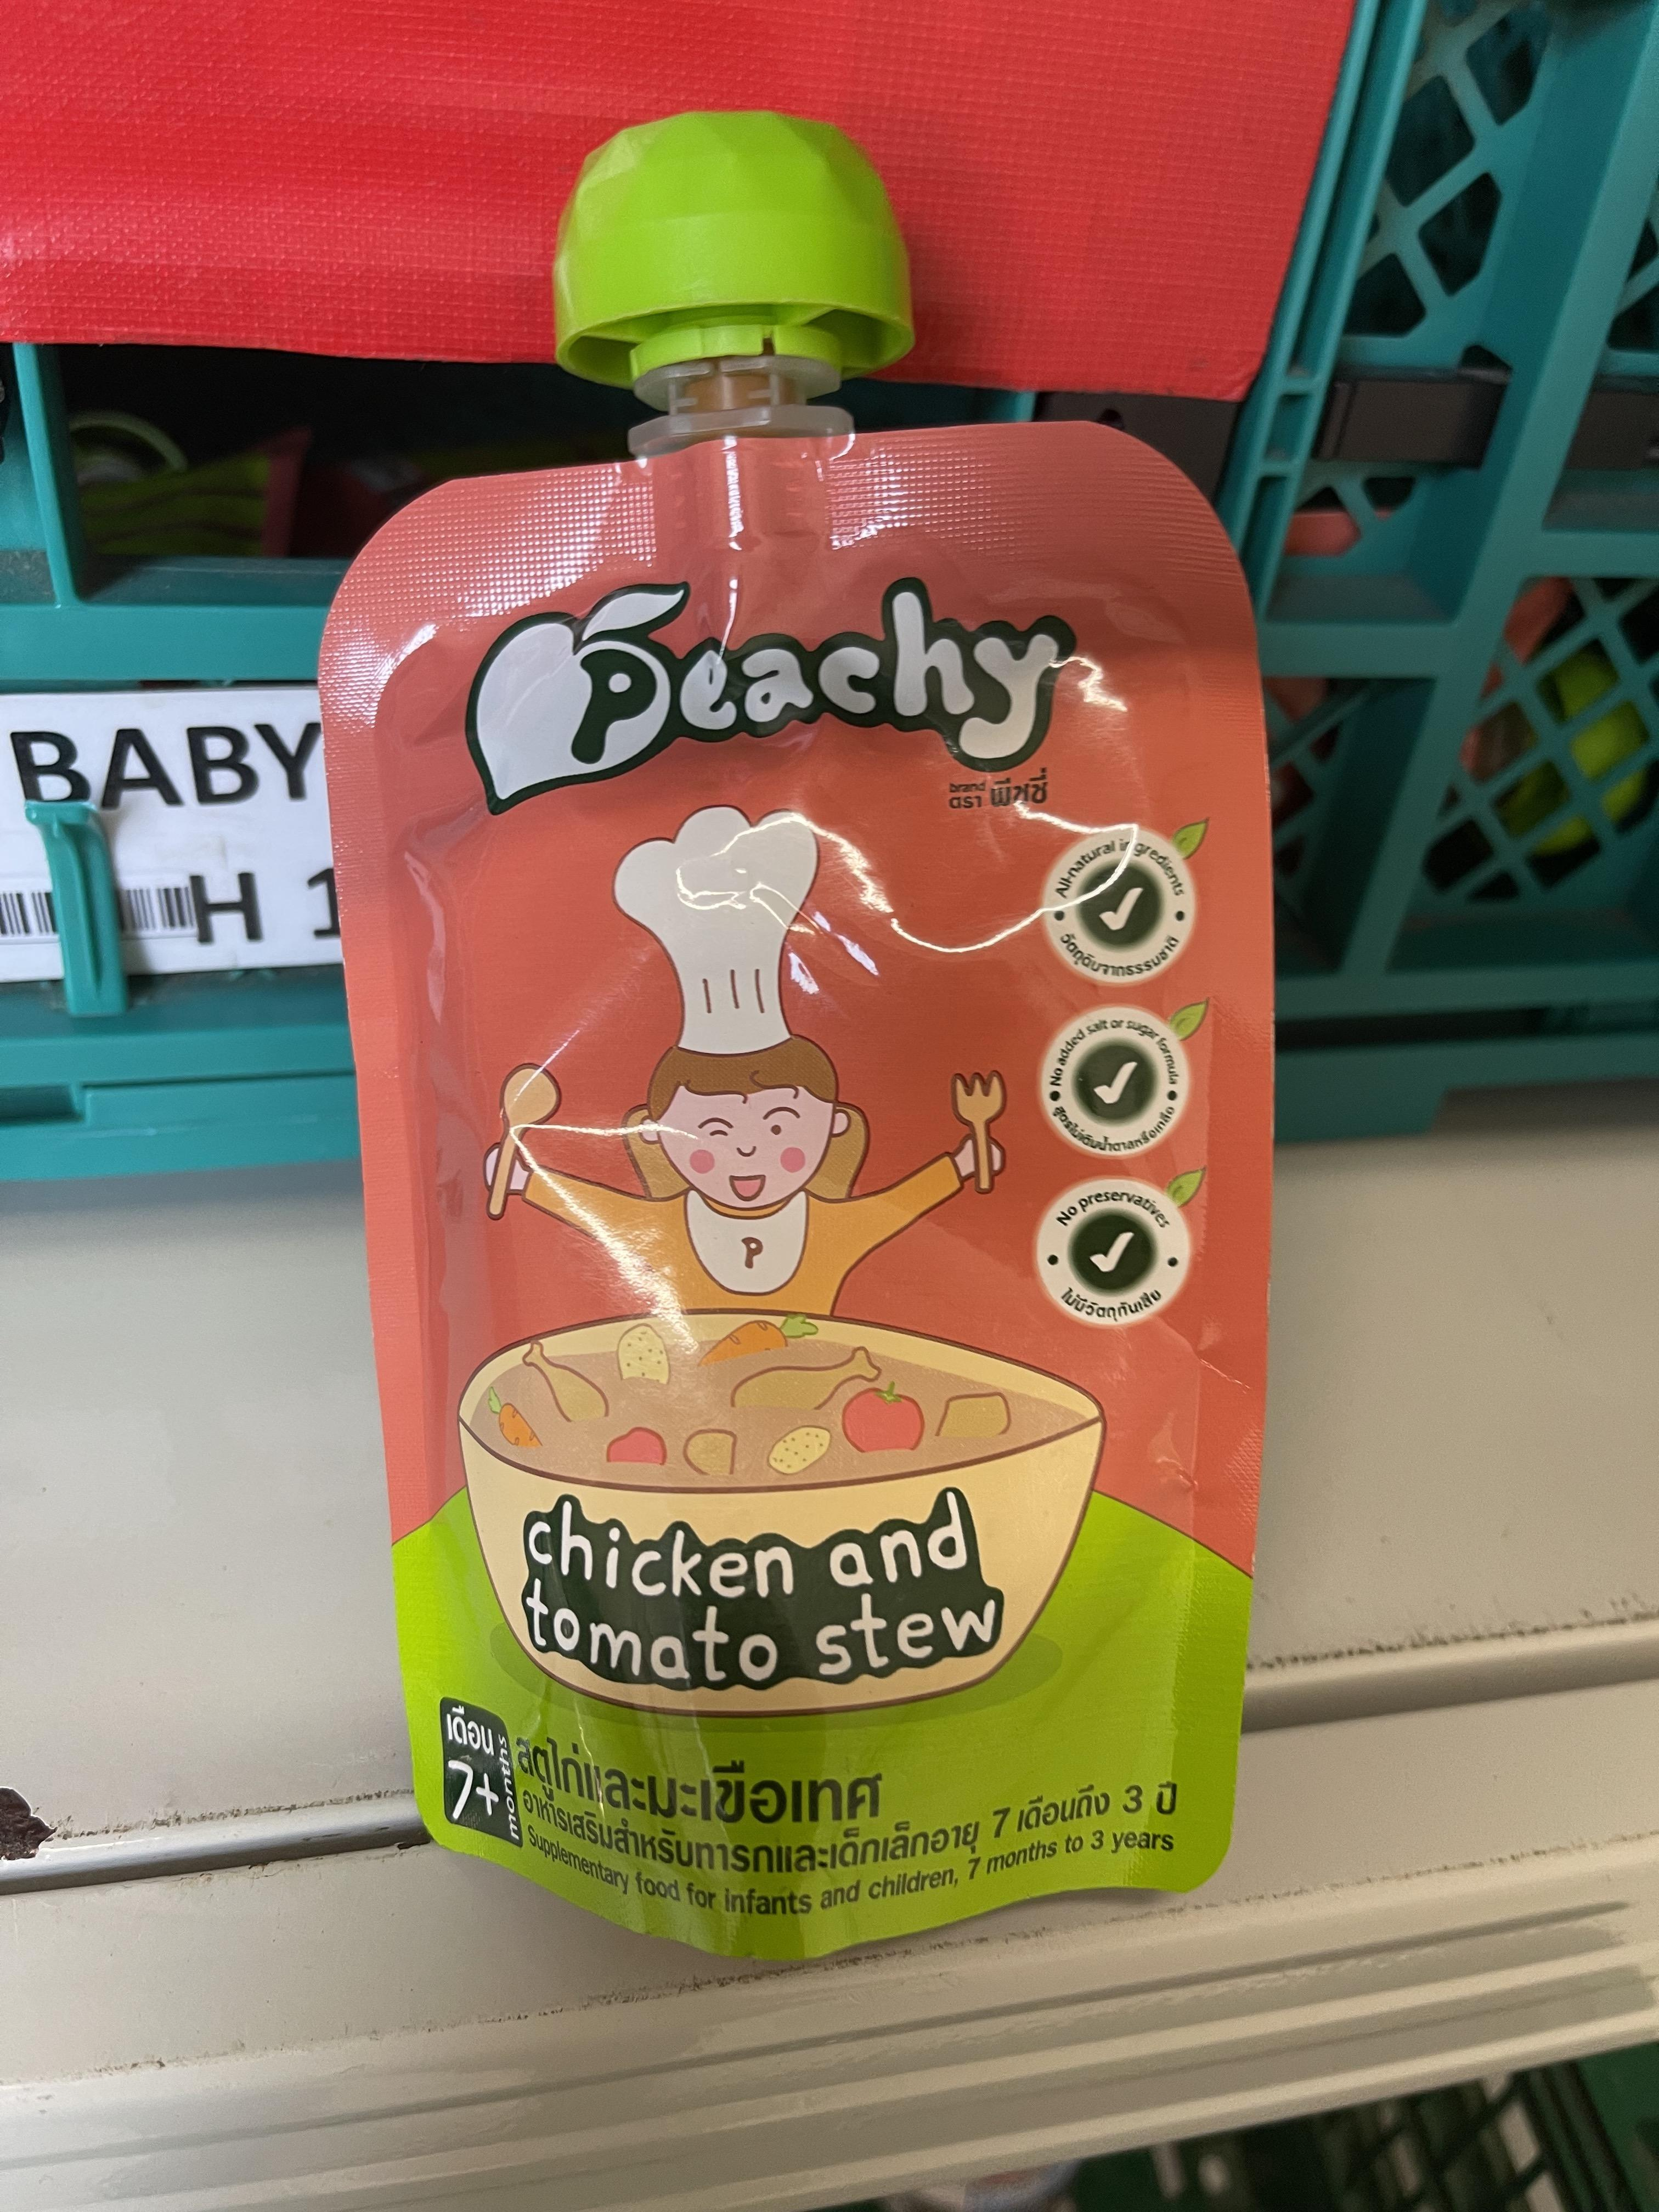object_name: (382, 543, 1215, 1897)
